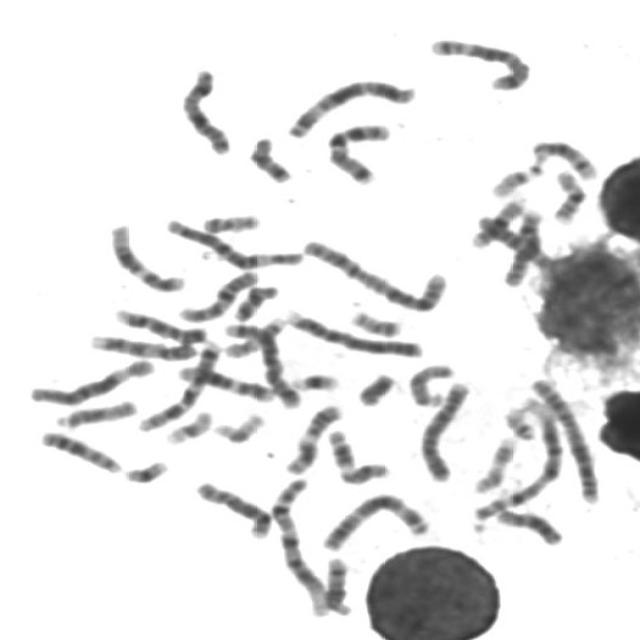A1: (464, 393, 567, 528), (266, 474, 334, 618)
A2: (295, 233, 451, 313), (523, 372, 605, 506)
A3: (280, 74, 420, 140), (316, 488, 432, 553)
B4: (279, 304, 426, 359), (413, 376, 474, 484)
B5: (218, 317, 305, 410), (424, 32, 535, 92)
C10: (173, 266, 262, 324), (500, 209, 545, 288)
C11: (280, 399, 346, 477), (322, 424, 392, 486)
C12: (104, 219, 188, 294), (172, 360, 279, 404)
C6: (160, 213, 306, 270), (23, 353, 159, 407)
C7: (133, 336, 225, 433), (319, 118, 395, 186)
C8: (470, 216, 564, 281), (189, 476, 274, 540)
C9: (110, 304, 210, 345), (84, 330, 200, 362)
D13: (34, 426, 124, 476), (488, 502, 566, 548)
D14: (525, 136, 601, 182), (317, 552, 355, 617)
D15: (49, 393, 140, 430), (404, 359, 457, 408)
E16: (467, 190, 530, 249), (546, 164, 589, 226)
E17: (468, 431, 521, 496), (218, 312, 289, 360)
E18: (243, 132, 295, 184), (228, 280, 282, 323)
F19: (160, 405, 216, 446), (207, 408, 267, 445)
F20: (345, 305, 405, 338), (198, 208, 264, 235)
G21: (118, 456, 171, 485), (285, 368, 343, 393)
G22: (487, 160, 546, 198), (499, 402, 540, 442)
X: (174, 63, 236, 156)
Y: (352, 369, 399, 408)
